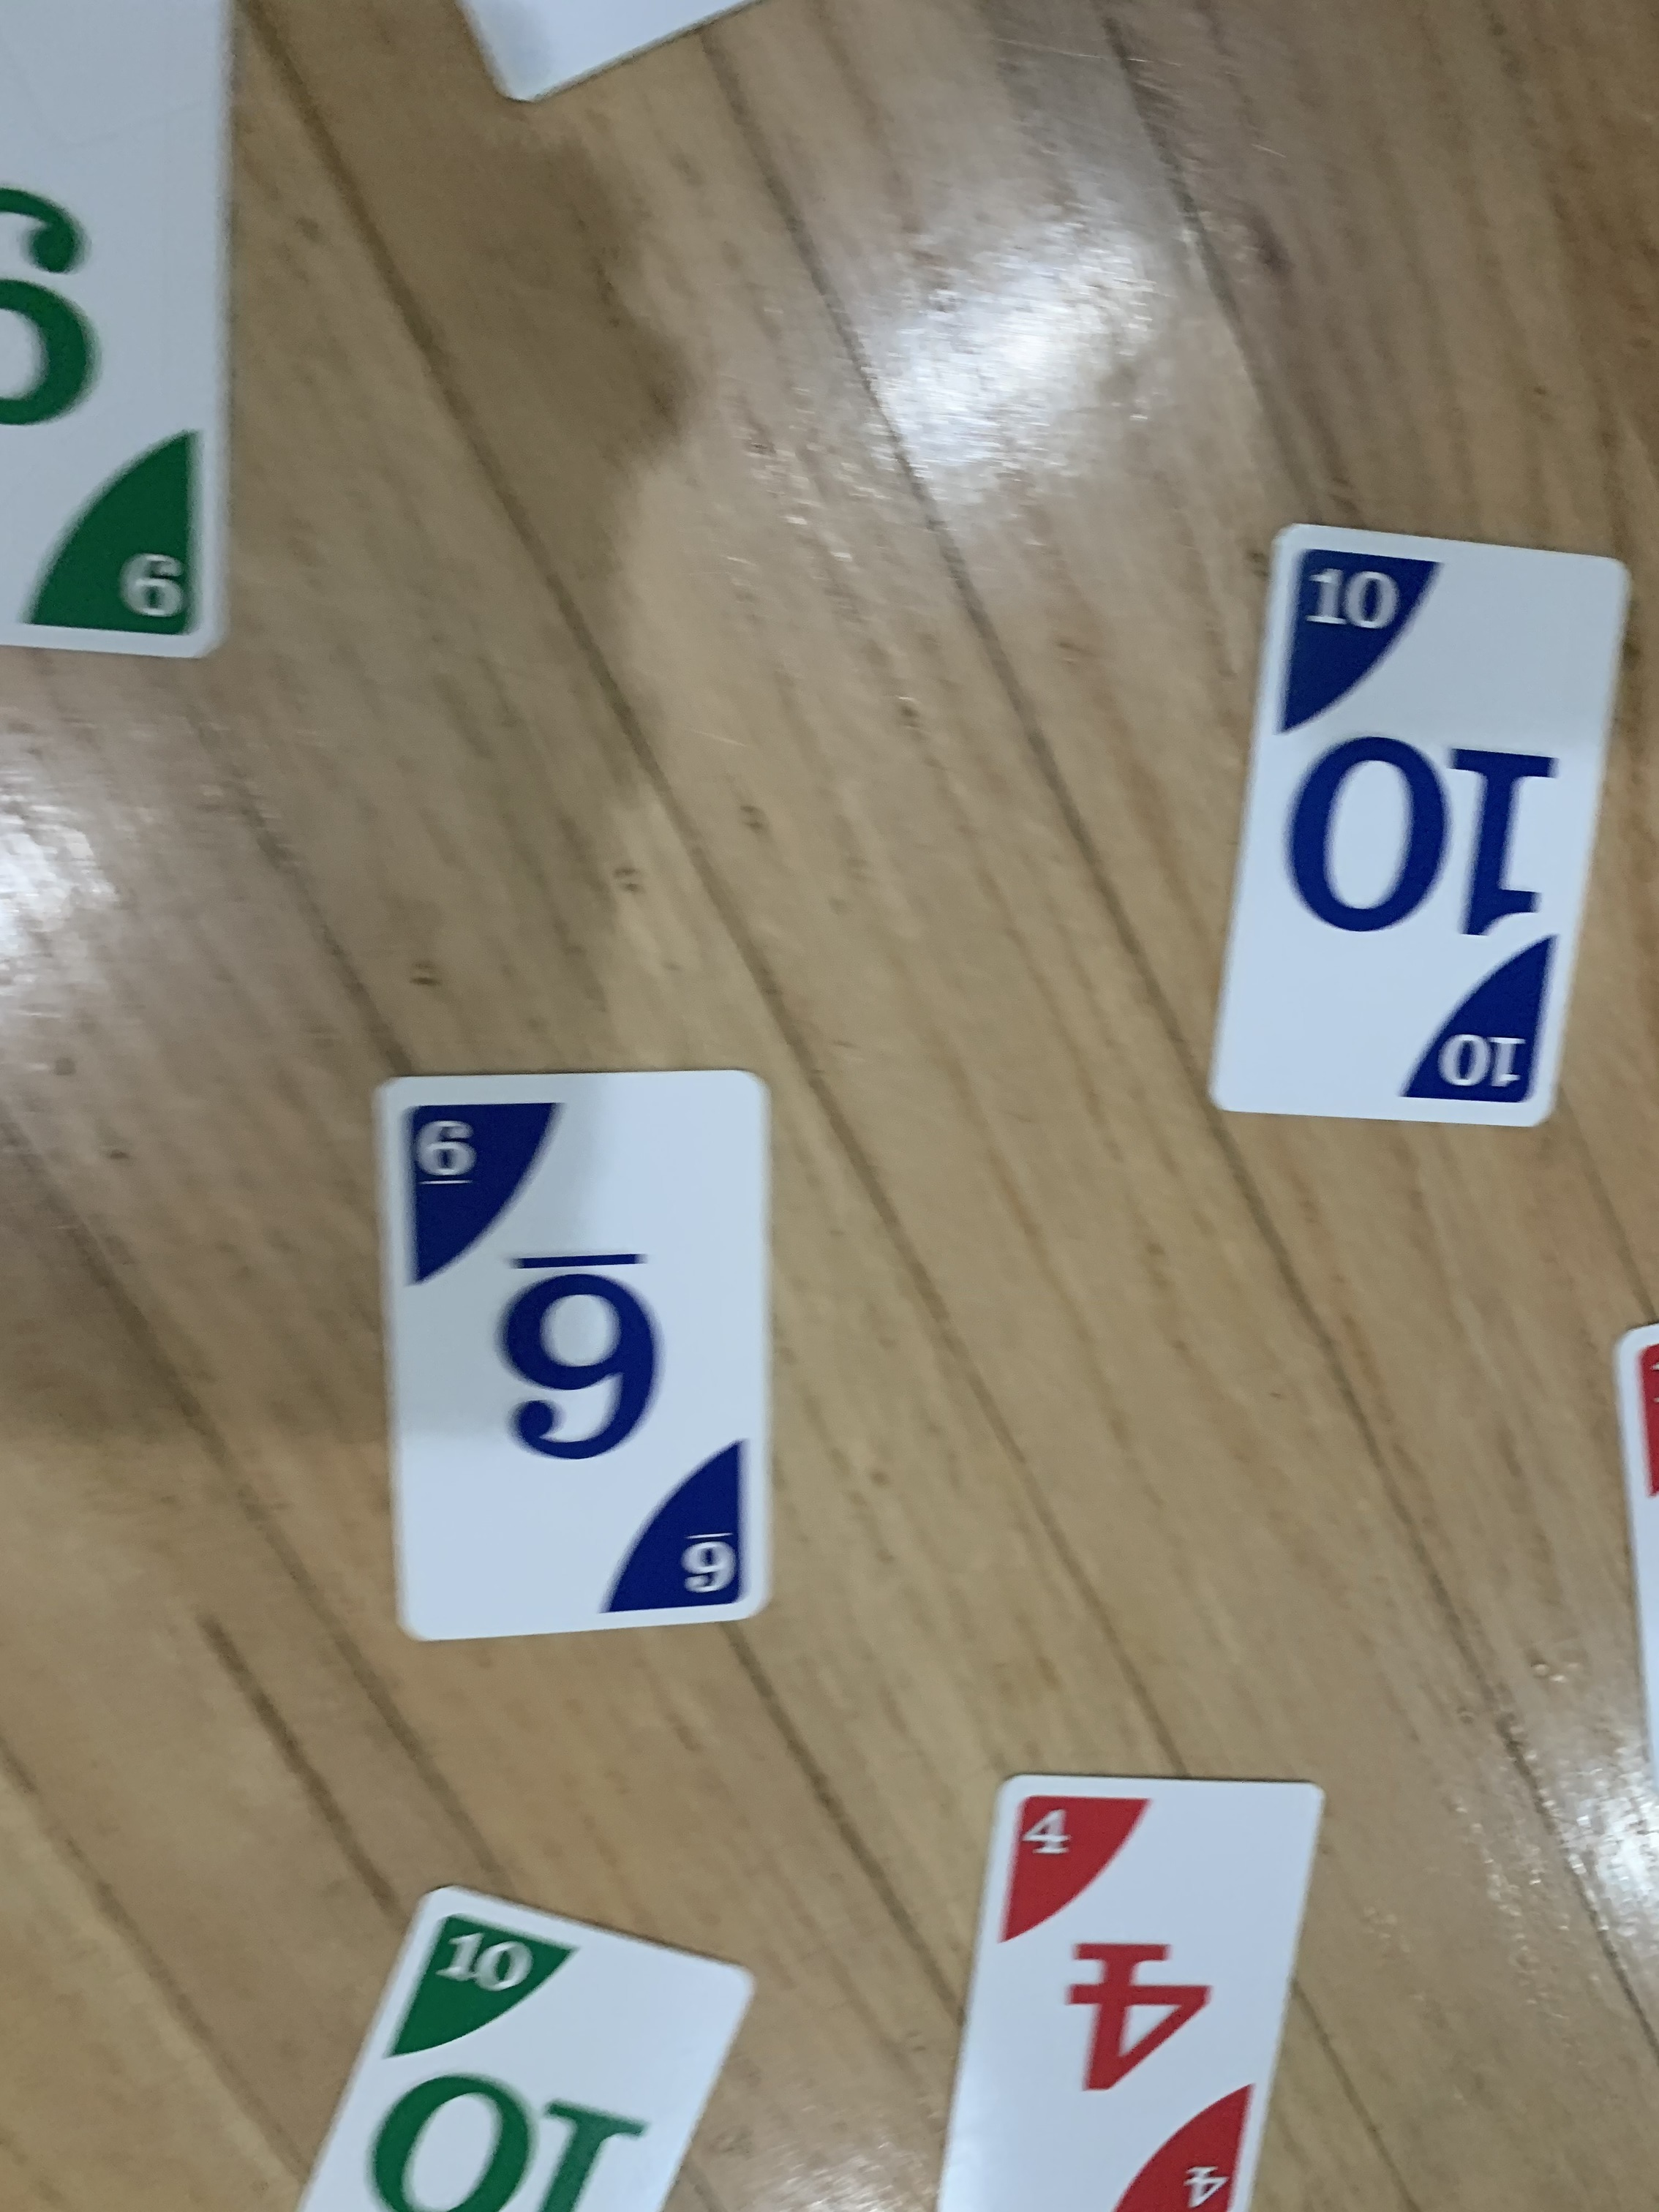four: (911, 1773, 1345, 2212)
nine: (362, 1033, 802, 1651)
ten: (1185, 500, 1650, 1163)
